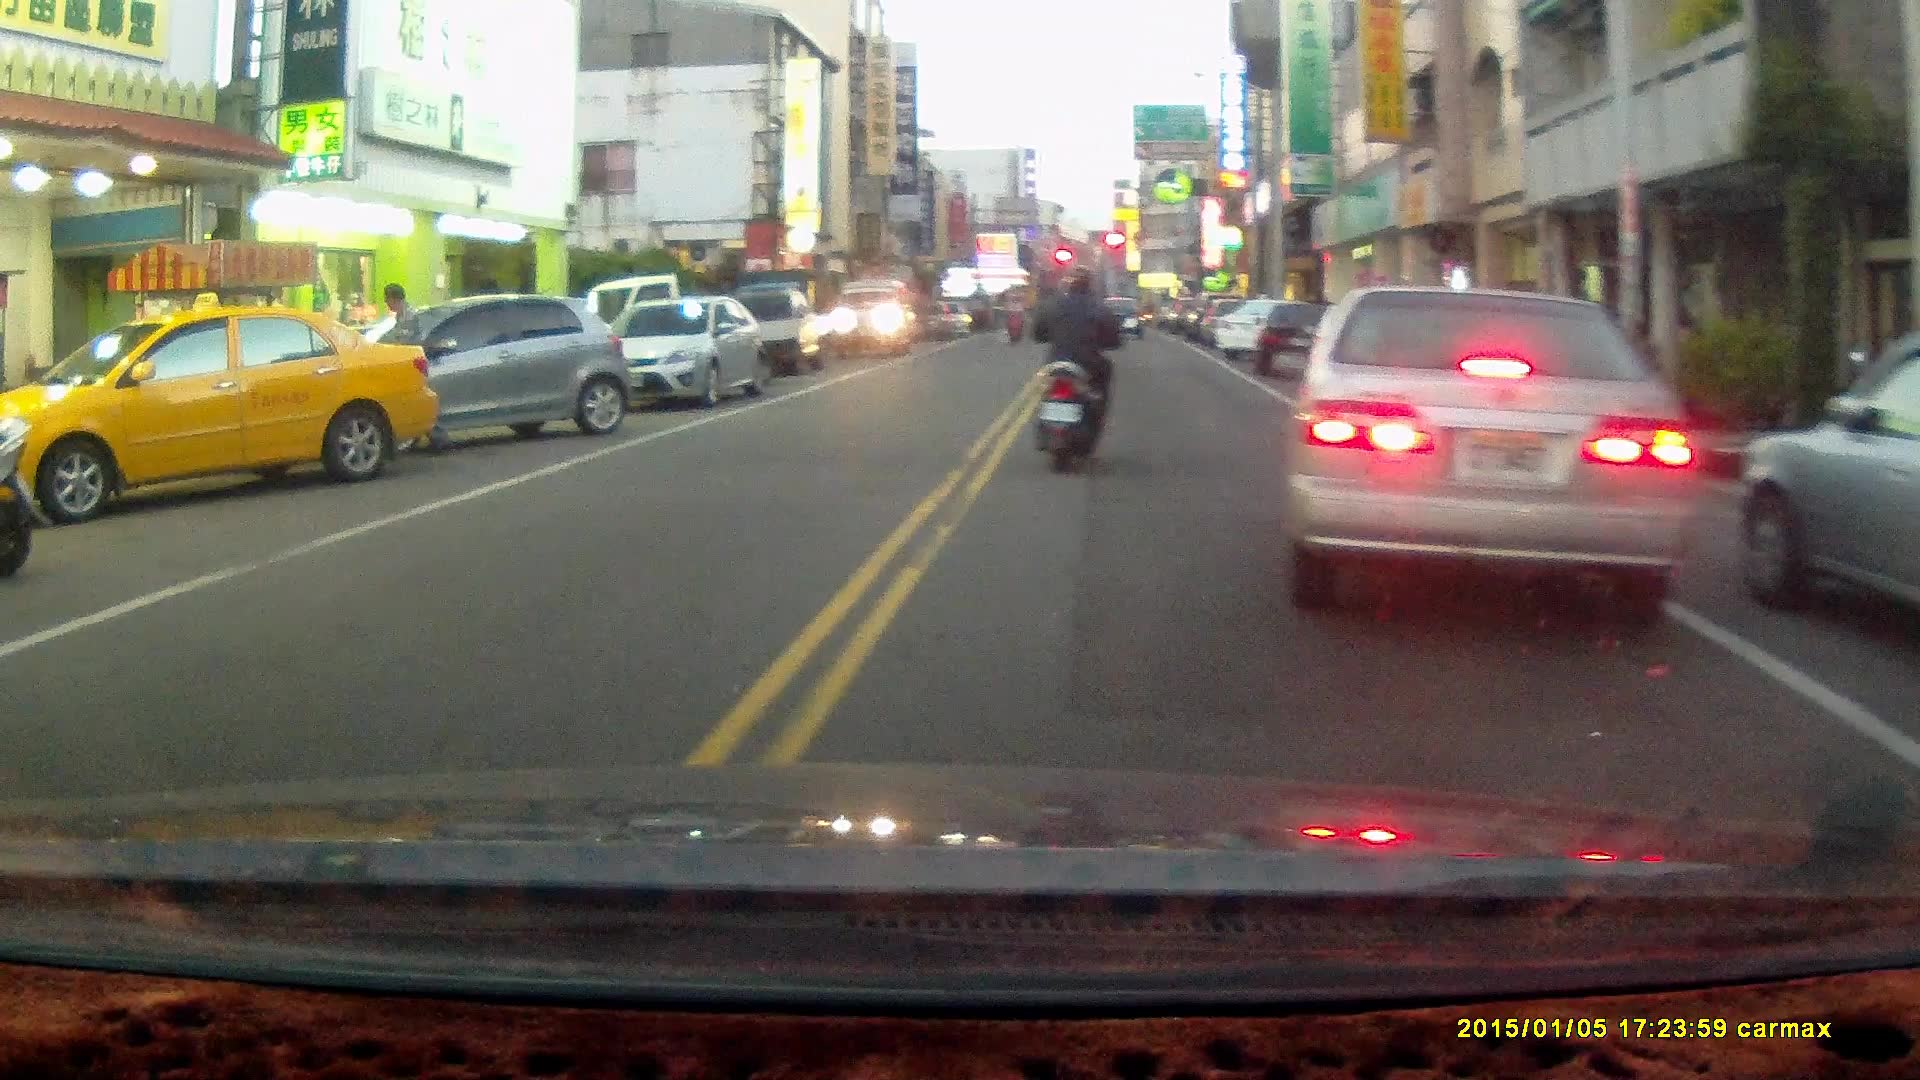pedestrian: (377, 279, 434, 460)
rider: (1025, 264, 1143, 472), (1002, 287, 1027, 346)
vehicle: (1280, 285, 1700, 626), (1, 300, 440, 526), (1722, 324, 1920, 664), (329, 290, 634, 441), (604, 293, 772, 409), (715, 286, 838, 381), (832, 279, 916, 355)
